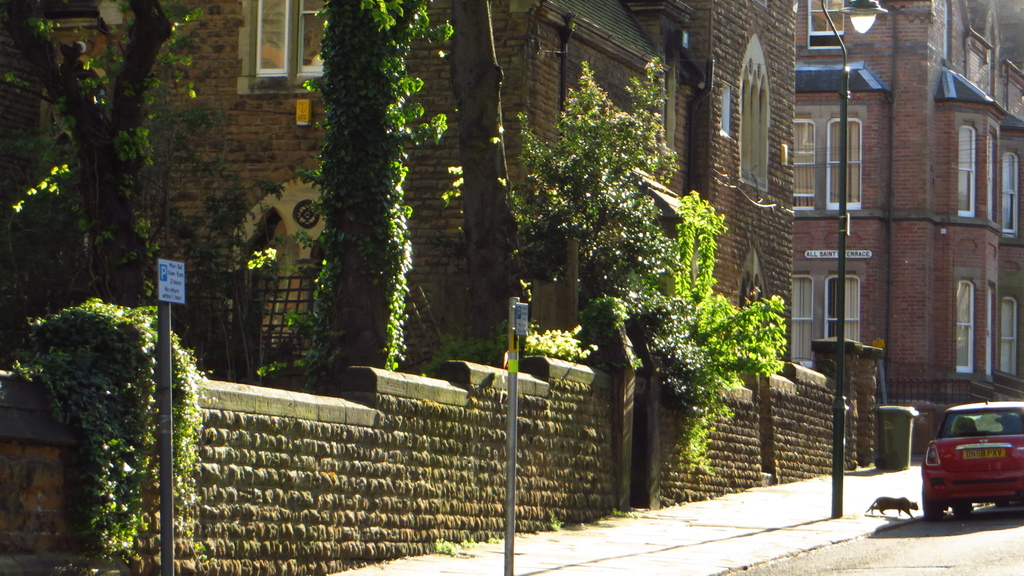Car: (916, 394, 1022, 522)
